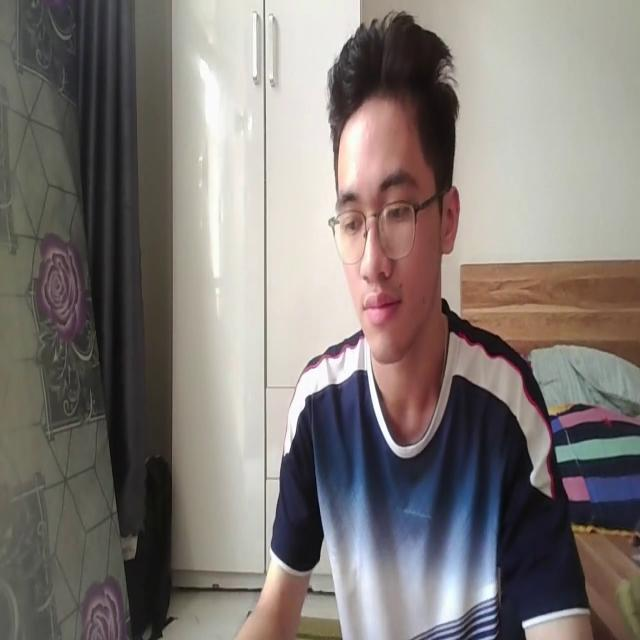student: (231, 12, 595, 640)
